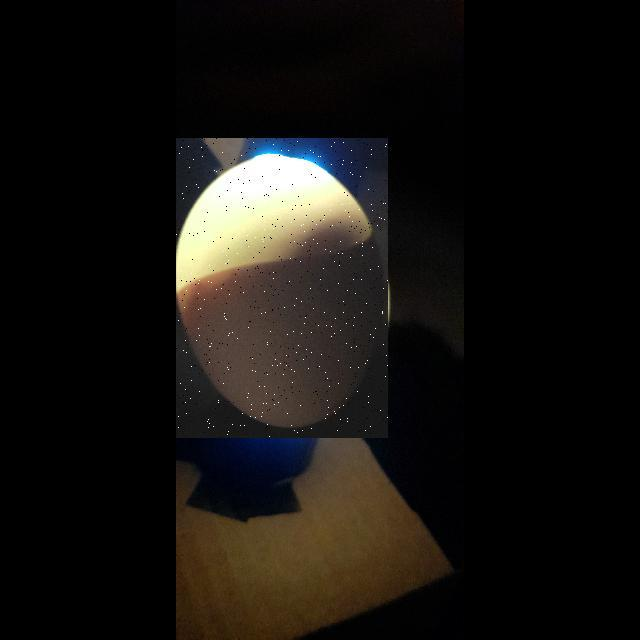Fertile: (176, 138, 388, 438)
